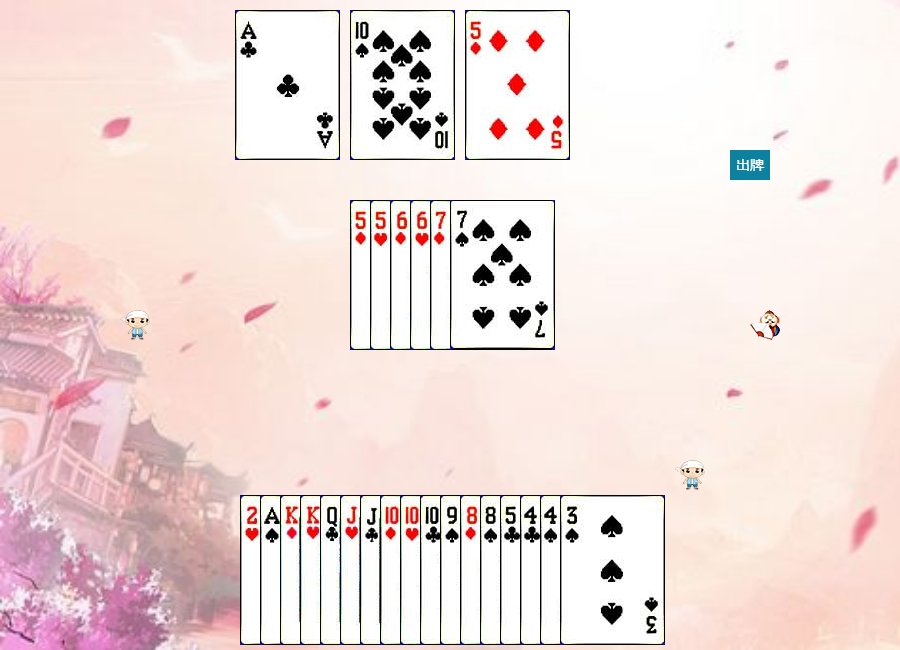10~1: (380, 495, 485, 645)
10~2: (420, 495, 525, 645)
10~3: (400, 495, 505, 645)
10~4: (350, 10, 455, 160)
11~2: (360, 495, 465, 645)
11~3: (340, 495, 445, 645)
12~2: (320, 495, 425, 645)
13~1: (280, 495, 385, 645)
13~3: (300, 495, 405, 645)
14~2: (235, 10, 340, 160)
14~4: (260, 495, 365, 645)
15~3: (240, 495, 345, 645)
3~4: (560, 495, 665, 645)
4~2: (520, 495, 625, 645)
4~4: (540, 495, 645, 645)
5~1: (465, 10, 570, 160), (350, 200, 455, 350)
5~2: (500, 495, 605, 645)
5~3: (370, 200, 475, 350)
6~1: (390, 200, 495, 350)
6~3: (410, 200, 515, 350)
7~1: (430, 200, 535, 350)
7~4: (450, 200, 555, 350)
8~1: (460, 495, 565, 645)
8~4: (480, 495, 585, 645)
9~4: (440, 495, 545, 645)
